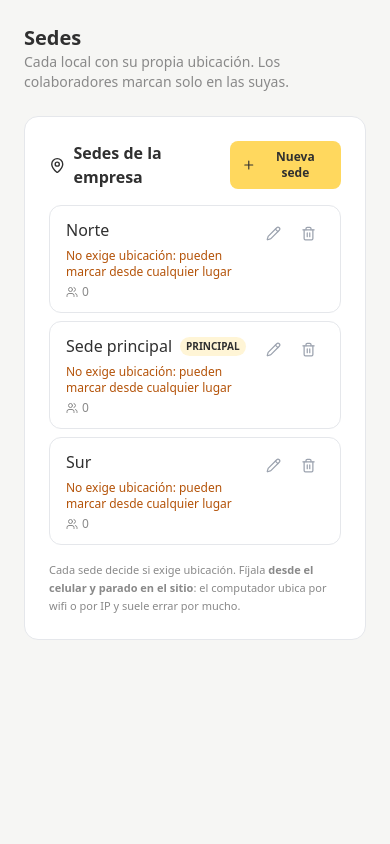
TabSedes y la Sede principal › al eliminar otra sede, el aviso dice qué sigue contando ahí y qué pasa a contarse en la principal, también en fechas pasadas
Click the button named "Eliminar Norte". click: (308, 234)
box: [293, 218, 324, 249]
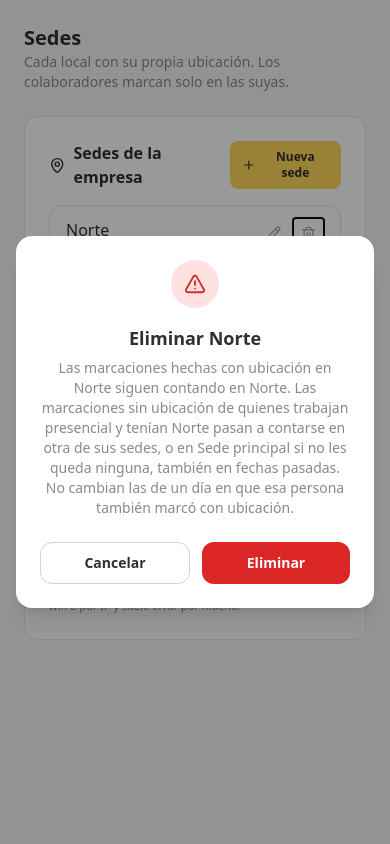
Check: the text "o en Sede principal si no les queda ninguna, también en fechas pasadas" is shown, box [42, 358, 348, 517]
